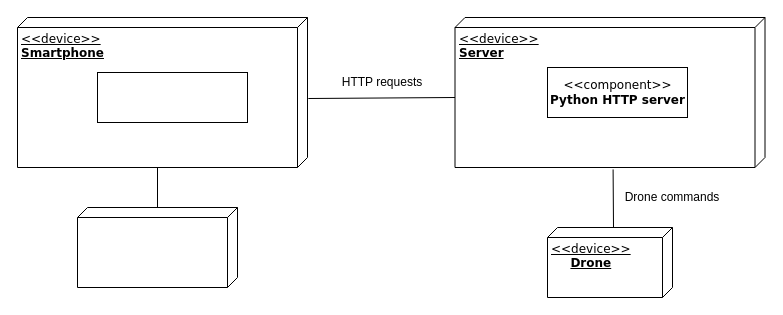
This 783x315 diagram has some shape labels left out. Each missing label, with the centre of its shape:
"<<component>> Drone your food App" goes at (172,97).
"<<device>> Firebase Server" goes at (157,247).
